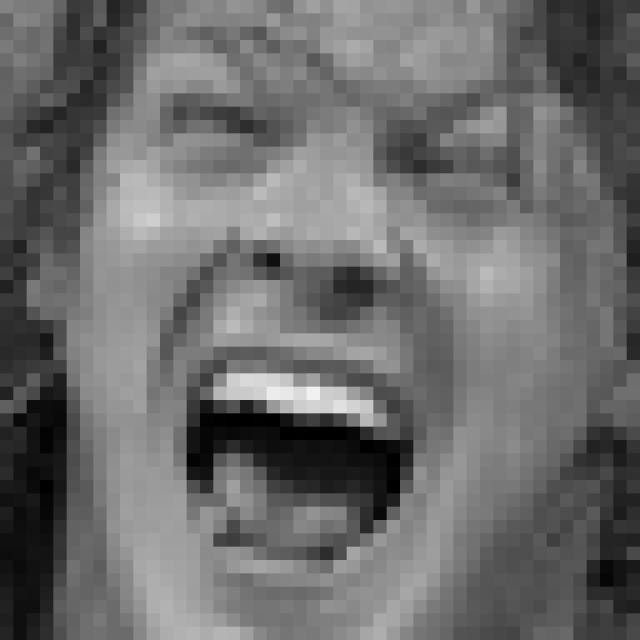angry: (134, 50, 545, 596)
